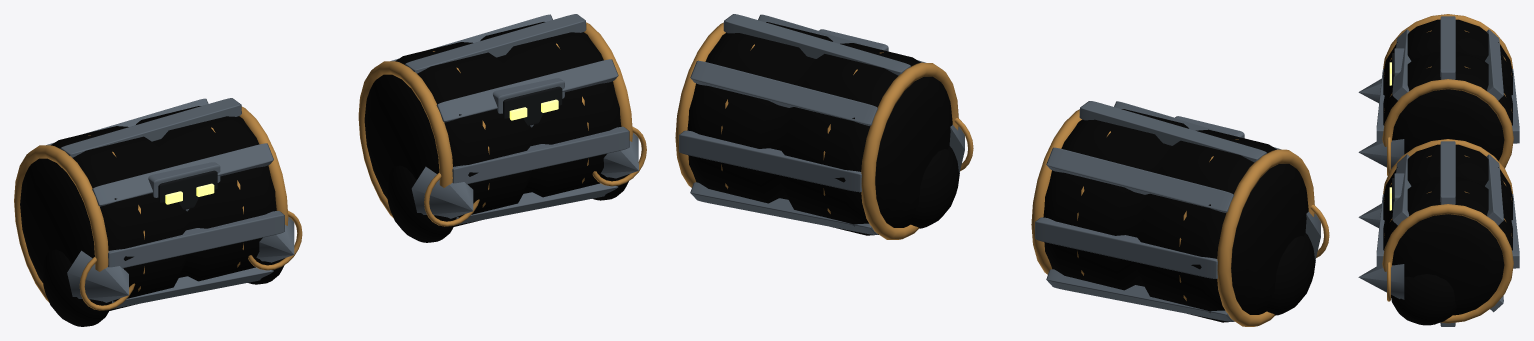
The model's file is warden-sump-twins-v1.glb.
3 views of the same model, side by side, from view 1: azimuth 30°, elevation 25°; view 2: azimuth 150°, elevation 25°; view 3: azimuth 270°, elevation 25° (orthographic). The views are drawn at different scales.
Parts seen in each view (by area): view 1: Winding barrel (×2), drum (×2), Exposed instrument (×2); view 2: Winding barrel (×2), drum (×2); view 3: Winding barrel (×2), drum (×2), Exposed instrument (×2).
Boxes of the visible parts, x1,y1,x2,y2 form: Winding barrel (×2): [14, 14, 632, 310]; drum (×2): [41, 126, 646, 326]; Exposed instrument (×2): [148, 78, 564, 211]; Winding barrel (×2): [675, 14, 1314, 326]; drum (×2): [910, 118, 1329, 315]; Winding barrel (×2): [1376, 14, 1519, 326]; drum (×2): [1358, 78, 1456, 325]; Exposed instrument (×2): [1389, 48, 1404, 210].
Size of the model in its own units: 3.49 by 1.02 by 1.15.
5 materials, 1 textured.
